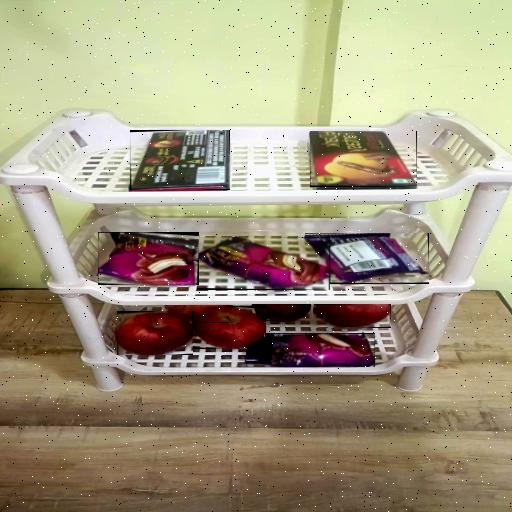Apple: (117, 312, 193, 355), (194, 306, 265, 349), (315, 304, 389, 328), (167, 305, 227, 322), (253, 304, 311, 321)
Choco Fills: (310, 131, 417, 187), (130, 130, 229, 190)
Choco Pie: (197, 237, 329, 289), (305, 233, 429, 283), (98, 233, 199, 285), (246, 333, 375, 367)
